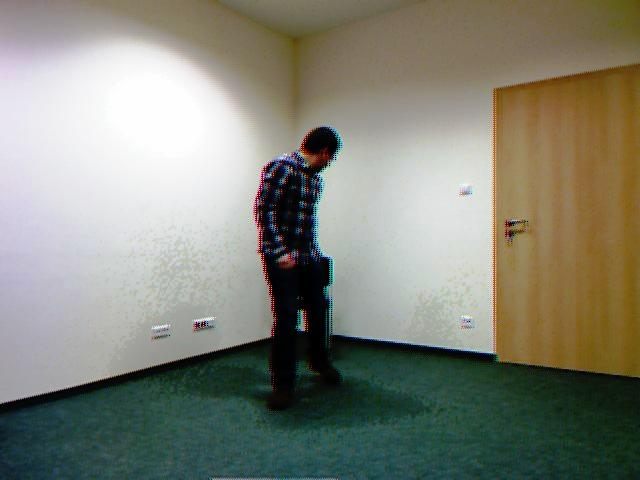walking: (233, 118, 361, 416)
